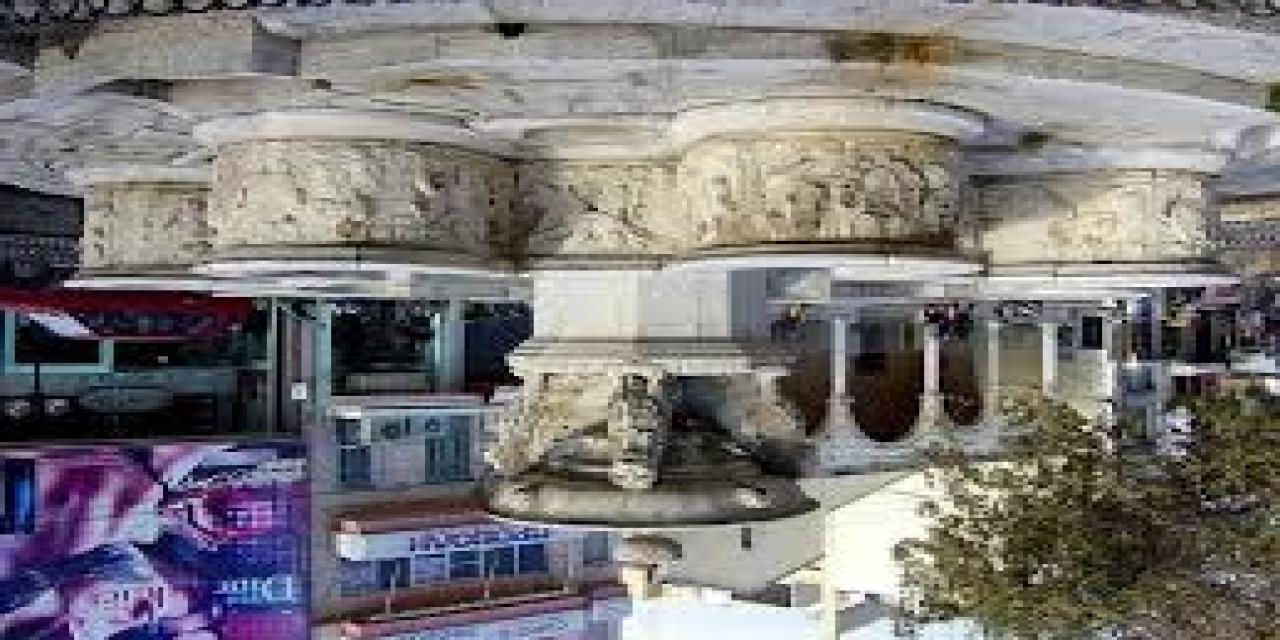Liontaria: (69, 108, 1230, 562)
